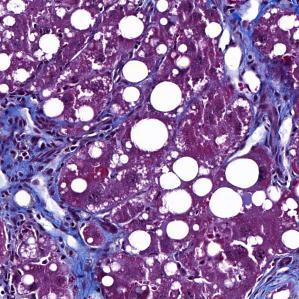fibrosis: (29, 203, 114, 298), (224, 14, 295, 119), (0, 99, 69, 201)
